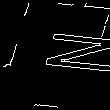N_W: (8, 31, 102, 79)
